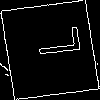L: (25, 24, 82, 60)
